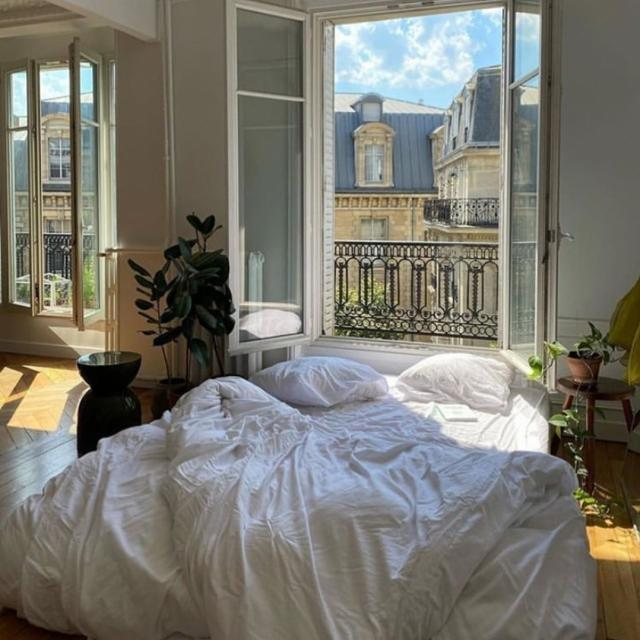bed: (0, 339, 581, 638)
